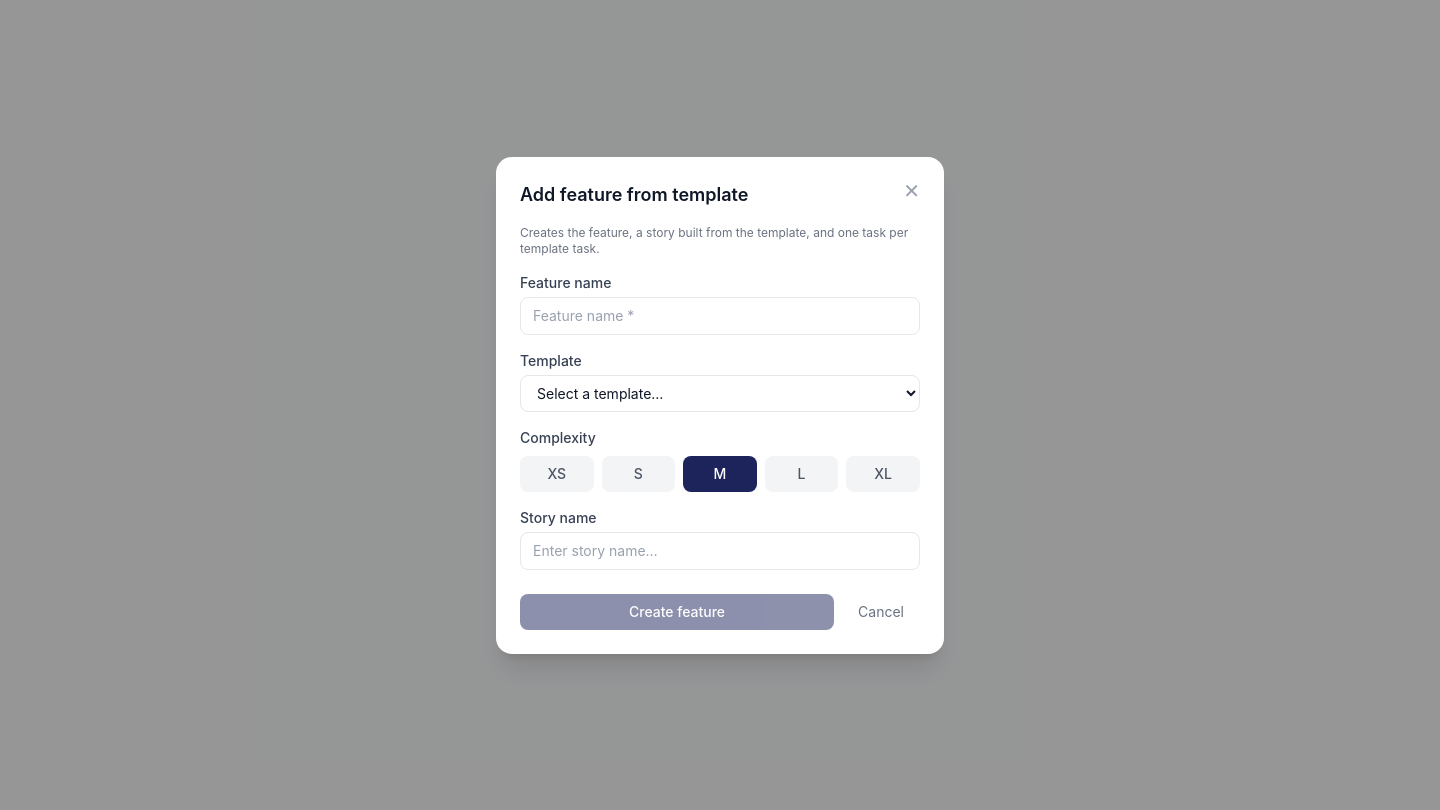
it: AddFeatureFromTemplateModal › prevents duplicate submission while creating
In the field labelled "Feature name": (720, 316) [520,296,920,334], type "Checkout"
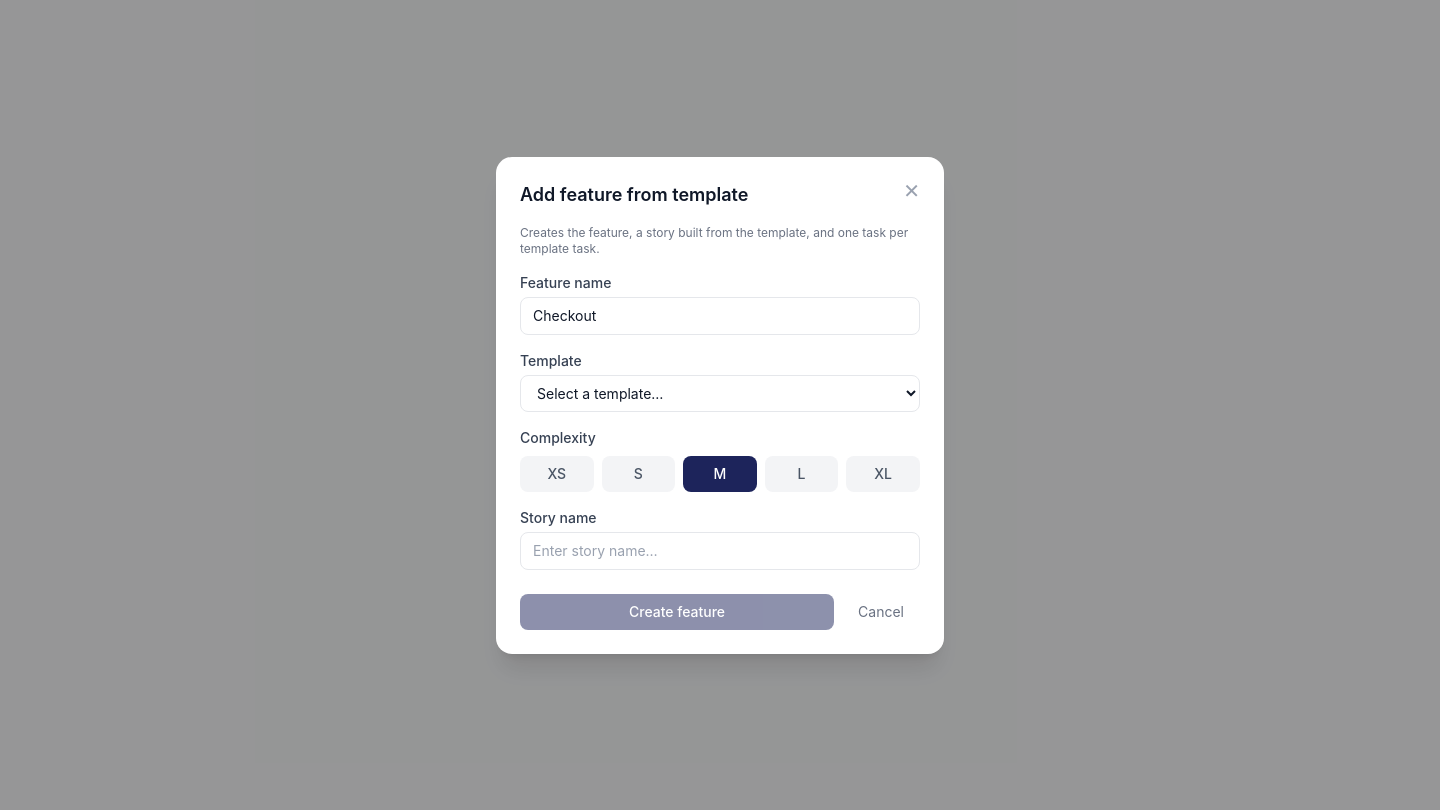
Select "API Endpoint" in the dropdown labelled "Template": (720, 393) [520,374,920,412]
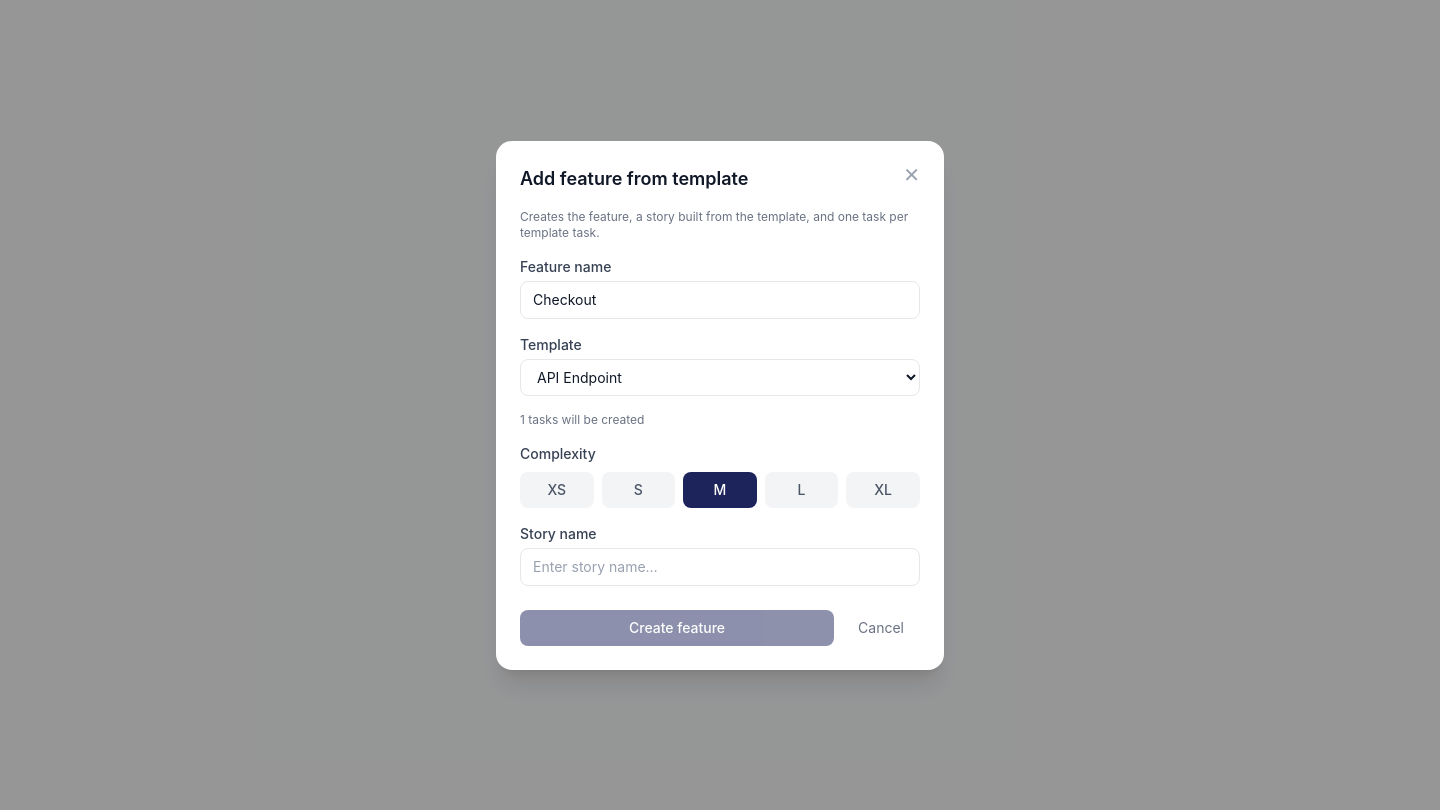
In the field labelled "Story name": (720, 566) [520,548,920,586], type "Checkout story"
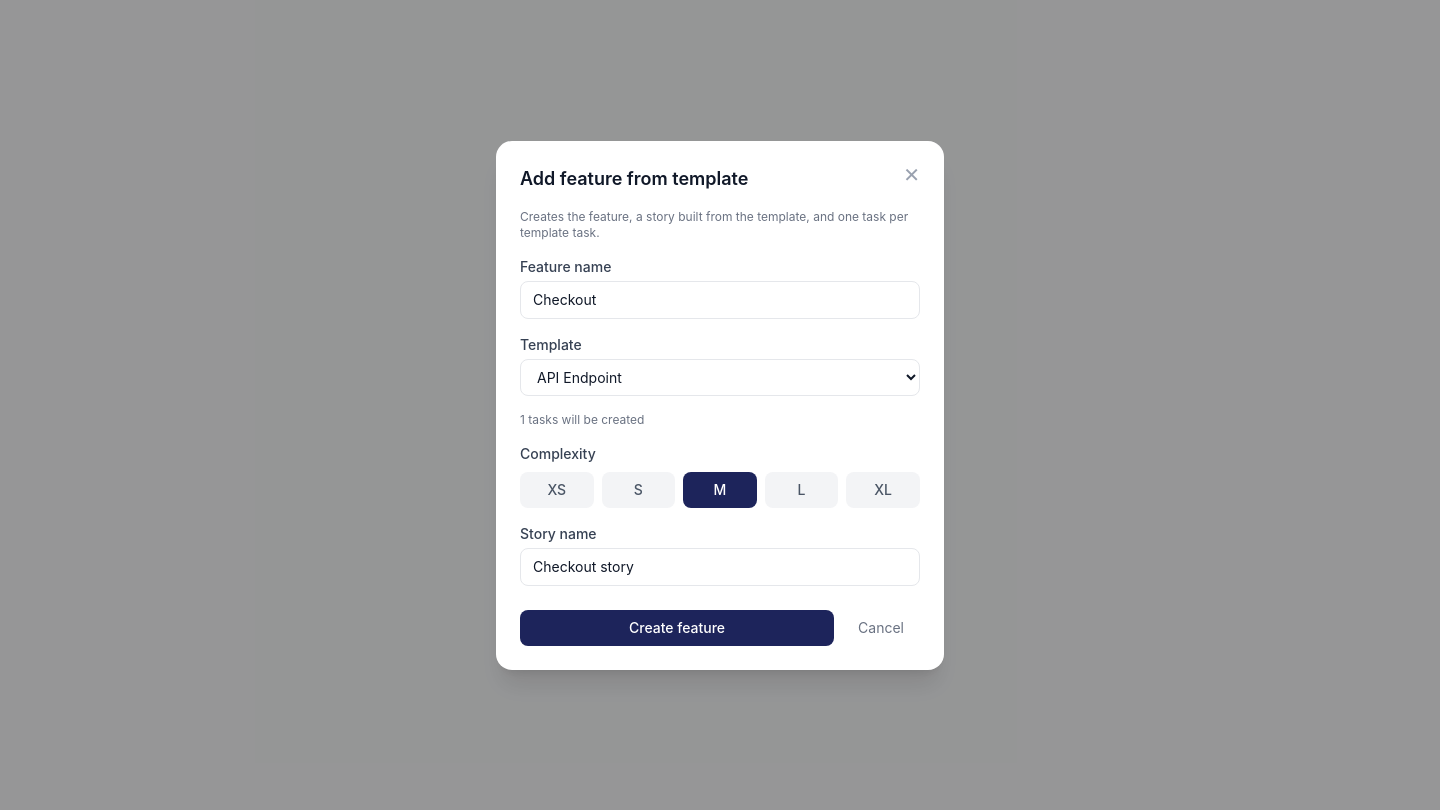
Click the button "Create feature": (677, 628) [520,610,834,646]
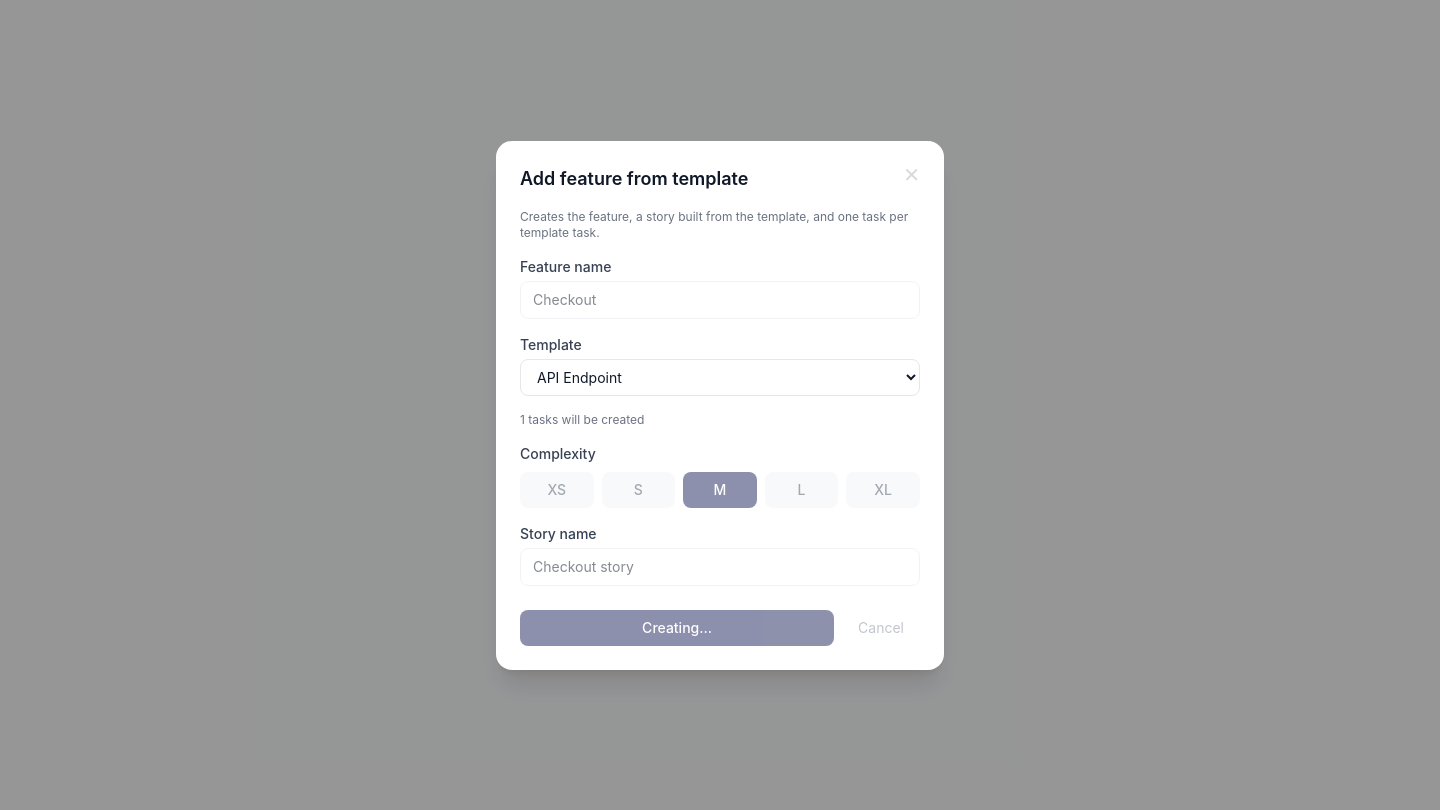
Result: the button "Creating…" is disabled at [520,610,834,646]
Result: the field labelled "Feature name" is disabled at [520,280,920,318]
Result: the button "Cancel" is disabled at [842,610,920,646]
